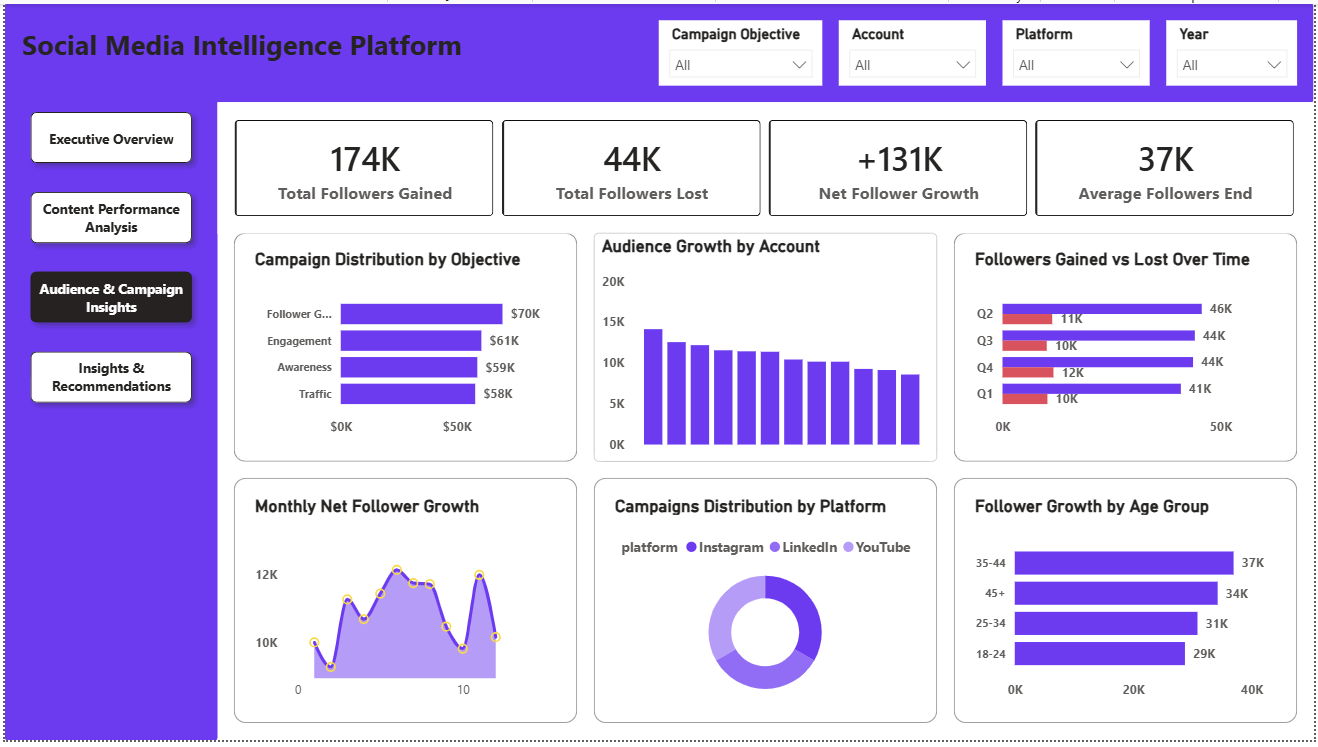

This screenshot's page, from the dashboard's own definition file:
{"tool":"powerbi","page":{"name":"Audience & Campaign Insights","canvas":[1280,720],"ordinal":2},"visuals":[{"type":"shape","box":[0,0,208,720],"z":0},{"type":"shape","box":[224,464,336,240],"z":1000},{"type":"shape","box":[224,224,336,224],"z":2000},{"type":"shape","box":[576,224,336,224],"z":3000},{"type":"shape","box":[576,464,336,240],"z":4000},{"type":"shape","box":[928,464,336,240],"z":5000},{"type":"shape","box":[928,224,336,224],"z":6000},{"type":"cardVisual","fields":{"Data":["_Measures.Total Followers Gained","_Measures.Total Followers Lost","_Measures.Net Follower Growth","_Measures.Average Followers End"]},"box":[208,96,1072,128],"z":7000},{"type":"barChart","title":"Campaign Distribution by Objective","fields":{"Category":["Dim_campaigns.objective"],"Y":["_Measures.Average Campaign Budget"]},"box":[240,240,304,192],"z":8000},{"type":"areaChart","title":"Monthly Net Follower Growth","fields":{"Category":["Dim_Date.Month Number"],"Y":["_Measures.Net Follower Growth"]},"box":[240,480,304,208],"z":9000},{"type":"columnChart","title":"Audience Growth by Account","fields":{"Category":["Dim_accounts.account_name"],"Y":["_Measures.Net Follower Growth"]},"box":[576,224,336,224],"z":10000},{"type":"shape","box":[0,0,1280,96],"z":11000},{"type":"textbox","box":[0,16,464,64],"z":12000},{"type":"slicer","fields":{"Values":["Dim_Date.Year"]},"box":[1136,16,128,64],"z":13000},{"type":"slicer","fields":{"Values":["Fact_content_performance.platform"]},"box":[976,16,144,64],"z":14000},{"type":"slicer","fields":{"Values":["Dim_accounts.account_name"]},"box":[816,16,144,64],"z":15000},{"type":"slicer","fields":{"Values":["Dim_campaigns.objective"]},"box":[640,16,160,64],"z":16000},{"type":"clusteredBarChart","title":"Followers Gained vs Lost Over Time","fields":{"Category":["Dim_Date.Quarter"],"Y":["_Measures.Total Followers Gained","_Measures.Total Followers Lost"]},"box":[944,240,304,192],"z":17000},{"type":"donutChart","title":"Campaigns Distribution by Platform","fields":{"Category":["Fact_content_performance.platform"],"Y":["_Measures.Total Campaigns"]},"box":[592,480,304,208],"z":18000},{"type":"clusteredBarChart","title":"Follower Growth by Age Group","fields":{"Category":["Fact_audience_growth.primary_age_group"],"Y":["_Measures.Net Follower Growth"]},"box":[944,480,304,208],"z":19000},{"type":"pageNavigator","box":[16,96,176,304],"z":20000}]}

Visuals, with their boxes in screenshot pixels (x1, y1, x2, y2), scaled from the page's 1280x720 canvas onto the 1318x747 screenshot:
shape: <bbox>0, 0, 214, 746</bbox>
shape: <bbox>231, 481, 577, 730</bbox>
shape: <bbox>231, 232, 577, 465</bbox>
shape: <bbox>593, 232, 939, 465</bbox>
shape: <bbox>593, 481, 939, 730</bbox>
shape: <bbox>956, 481, 1302, 730</bbox>
shape: <bbox>956, 232, 1302, 465</bbox>
cardVisual - _Measures.Total Followers Gained x _Measures.Total Followers Lost: <bbox>214, 100, 1317, 232</bbox>
"Campaign Distribution by Objective" barChart: <bbox>247, 249, 560, 448</bbox>
"Monthly Net Follower Growth" areaChart: <bbox>247, 498, 560, 714</bbox>
"Audience Growth by Account" columnChart: <bbox>593, 232, 939, 465</bbox>
shape: <bbox>0, 0, 1317, 100</bbox>
textbox: <bbox>0, 17, 478, 83</bbox>
slicer - Dim_Date.Year: <bbox>1170, 17, 1302, 83</bbox>
slicer - Fact_content_performance.platform: <bbox>1005, 17, 1153, 83</bbox>
slicer - Dim_accounts.account_name: <bbox>840, 17, 989, 83</bbox>
slicer - Dim_campaigns.objective: <bbox>659, 17, 824, 83</bbox>
"Followers Gained vs Lost Over Time" clusteredBarChart: <bbox>972, 249, 1285, 448</bbox>
"Campaigns Distribution by Platform" donutChart: <bbox>610, 498, 923, 714</bbox>
"Follower Growth by Age Group" clusteredBarChart: <bbox>972, 498, 1285, 714</bbox>
pageNavigator: <bbox>16, 100, 198, 415</bbox>
